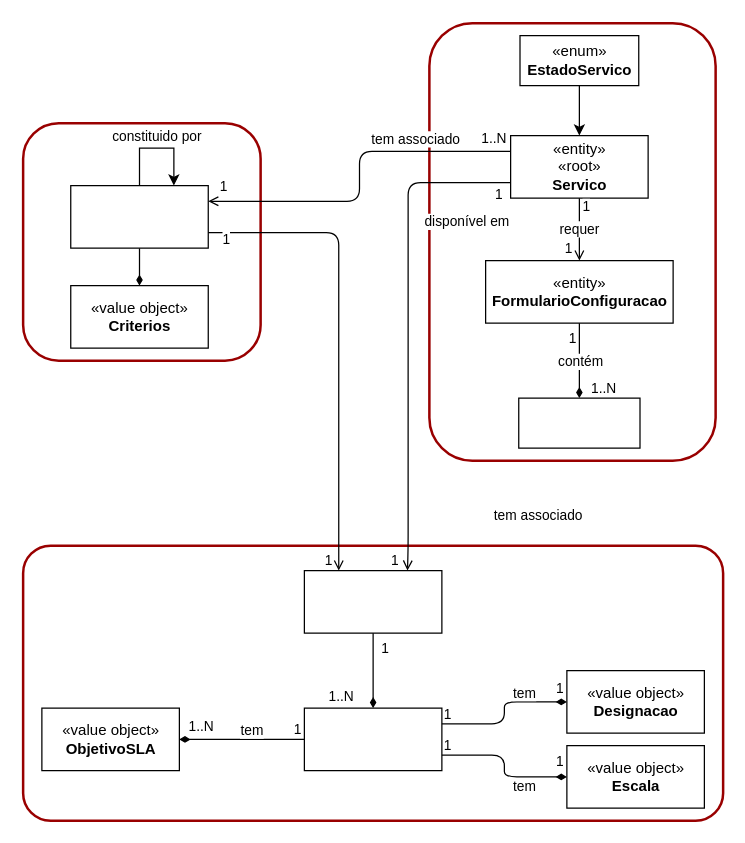
Some shapes in this 745 by 843 pixel diagram are drawn without their labels. Each missing label, with the centre of its shape:
"«entity» NivelCriticidade" belongs at [372,739].
"«entity» «root» Catalogo" belongs at [139,216].
"«entity» «root» SLA" belongs at [372,601].
"«value object» Atributo" belongs at [579,422].
